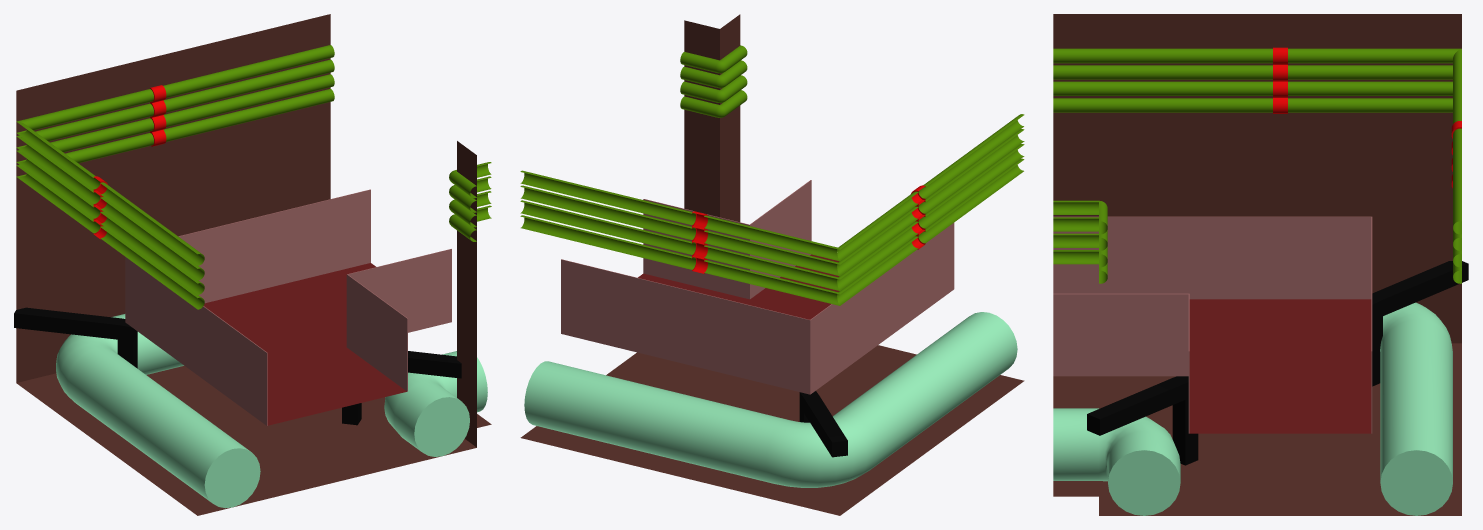
File: _ideCorner.fbx
The picture shows the model from 3 angles, left to right: view 1: azimuth 30°, elevation 25°; view 2: azimuth 150°, elevation 25°; view 3: azimuth 270°, elevation 25°; orthographic projection. The views are drawn at different scales.
Visible parts, largest first — view 1: SideCorner; view 2: SideCorner; view 3: SideCorner.
Part boxes in pixels (box(x1,y1,x2,y2)): SideCorner: box(14, 14, 491, 515); SideCorner: box(520, 14, 1024, 515); SideCorner: box(1053, 14, 1468, 515).
Bounding box in the file's own units: 4.57 × 4 × 4.57.
